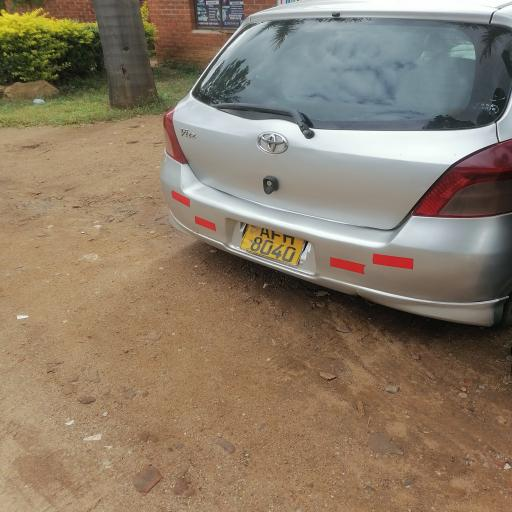number-plates: (232, 216, 313, 268)
